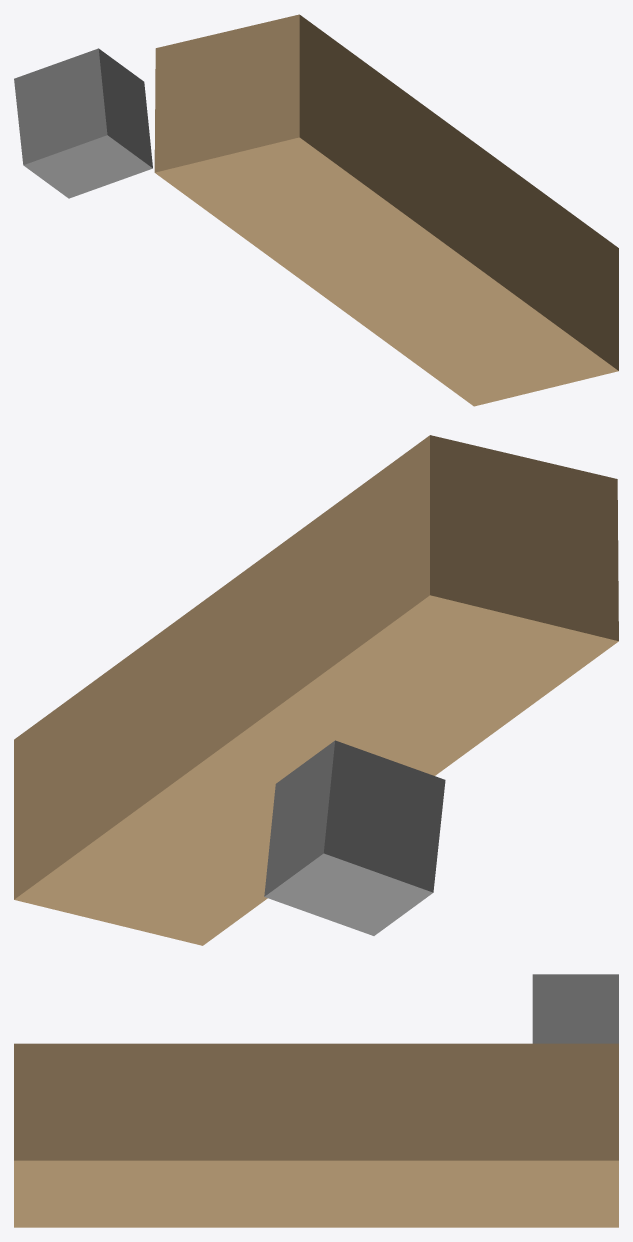
3 views of the same model, one above another, from view 1: azimuth 30°, elevation 25°; view 2: azimuth 150°, elevation 25°; view 3: azimuth 270°, elevation 25° (orthographic). The views are drawn at different scales.
Visible parts, largest first — view 1: 0_2_3_3_3_0_2_3_1_1_2; view 2: 0_2_3_3_3_0_2_3_1_1_2; view 3: 0_2_3_3_3_0_2_3_1_1_2.
Boxes of the visible parts, x1,y1,x2,y2 form: 0_2_3_3_3_0_2_3_1_1_2: (14, 14, 618, 406); 0_2_3_3_3_0_2_3_1_1_2: (14, 435, 618, 945); 0_2_3_3_3_0_2_3_1_1_2: (14, 974, 618, 1227).
Size of the model in its own units: 10.84 by 5.01 by 21.
